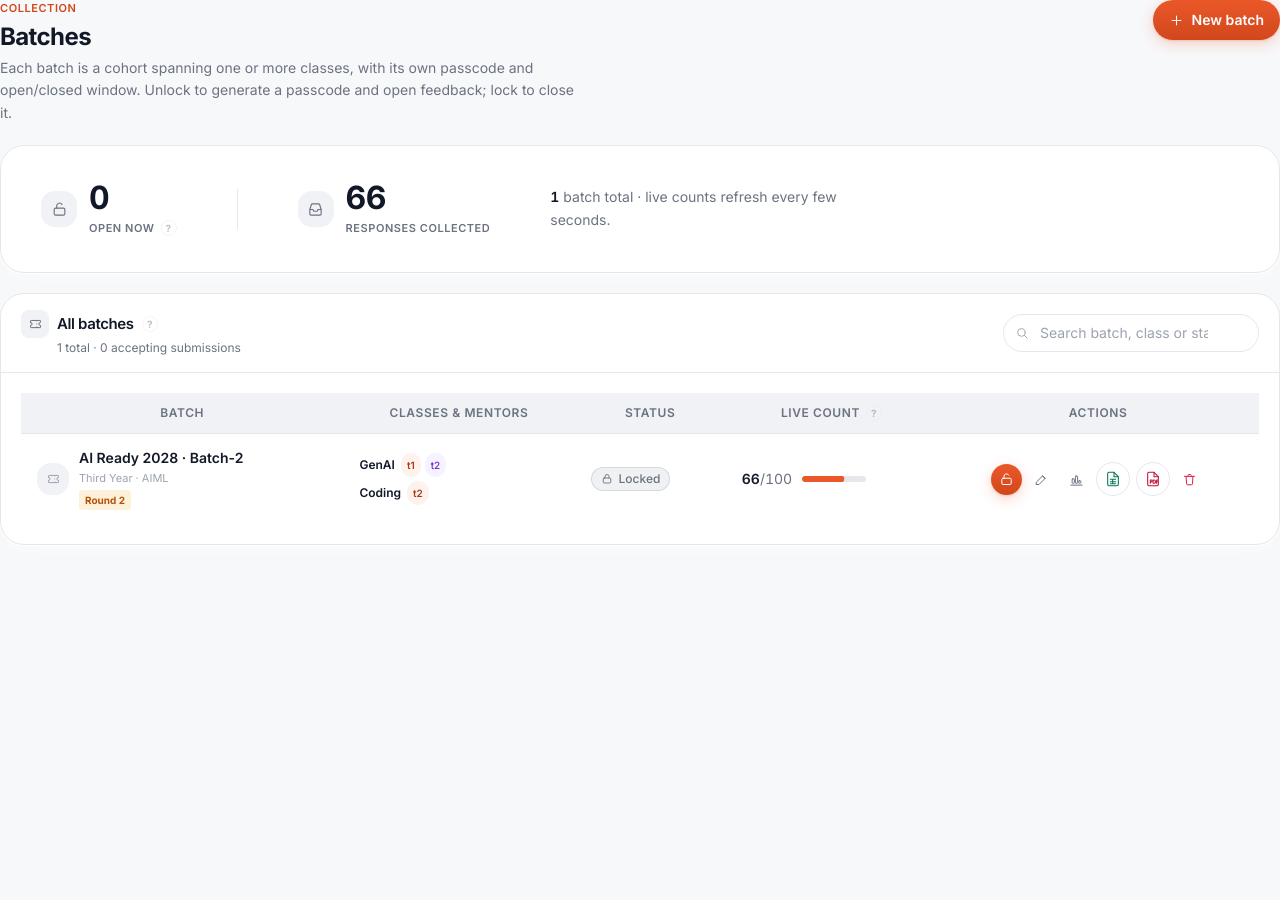
Test case: editing a batch › seeds the form from the batch instead of opening blank
Expected: the text "AI Ready 2028 · Batch-2" is shown, [79, 448, 244, 468]
Step 1. Click the button named "Edit this batch" → [1042, 479], box [1026, 464, 1057, 495]
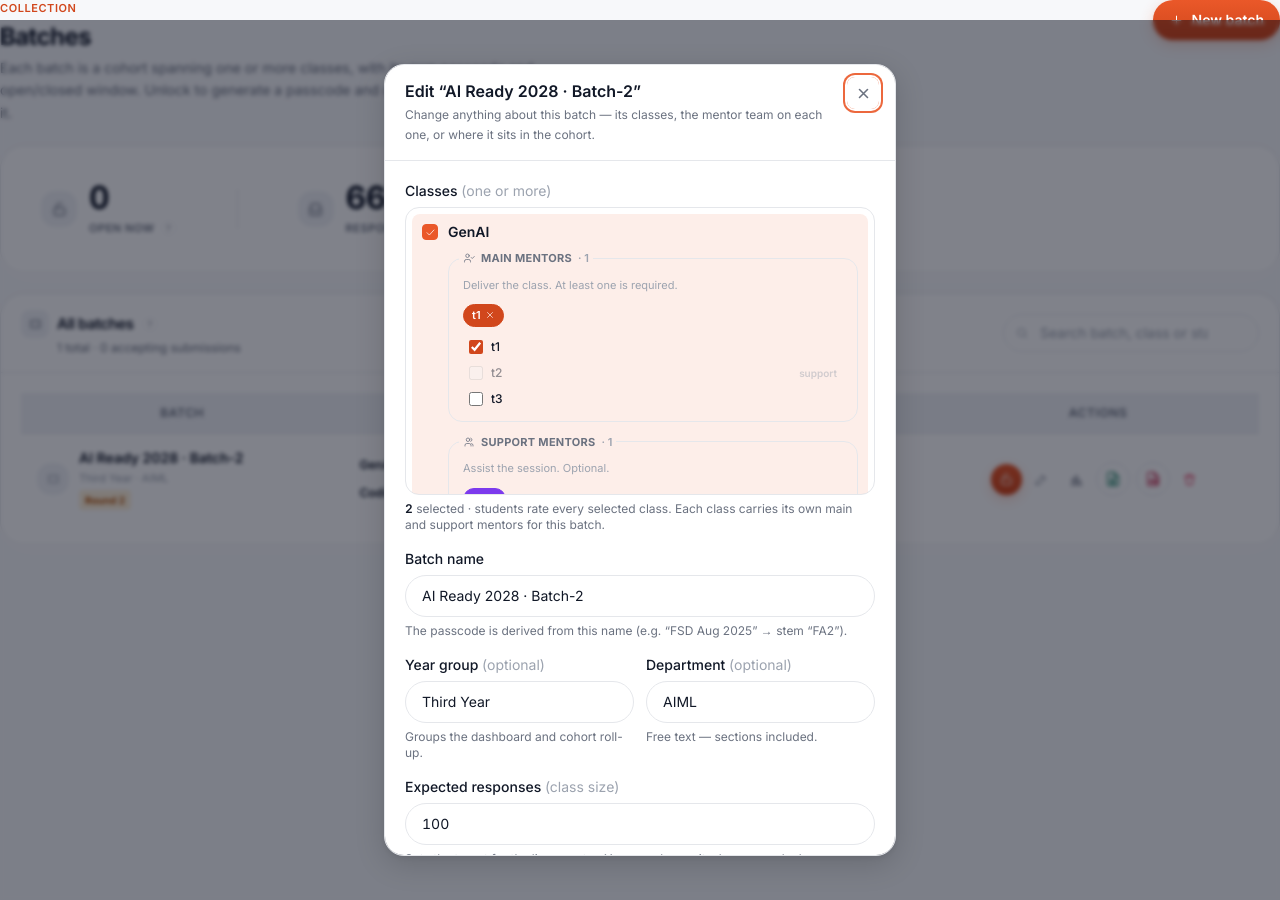
Now the field showing "AI Ready 2028 · Batch-2" is shown, box [405, 575, 875, 617]
Now the field showing "Third Year" is shown, box [405, 681, 634, 723]
Now the field showing "AIML" is shown, box [646, 681, 875, 723]
